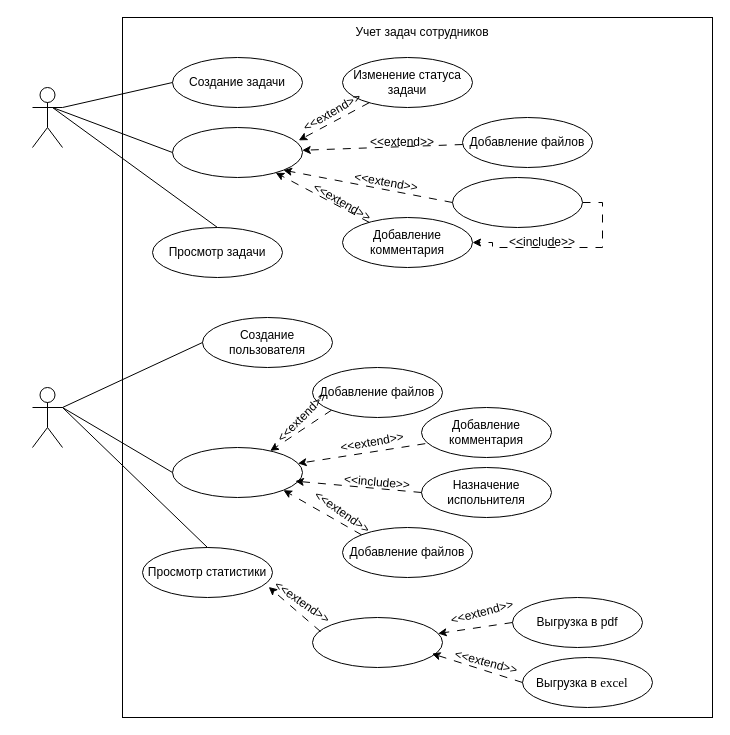
This 730x735 diagram has some shape labels left out. Each missing label, with the centre of its shape:
Выгрузка статистики: the point at 377,642
Делигирование задачи: the point at 517,202
Начальник: the point at 47,417
Редактирование задачи: the point at 237,152
Сотрудник: the point at 47,117
Управление задачами: the point at 237,472
